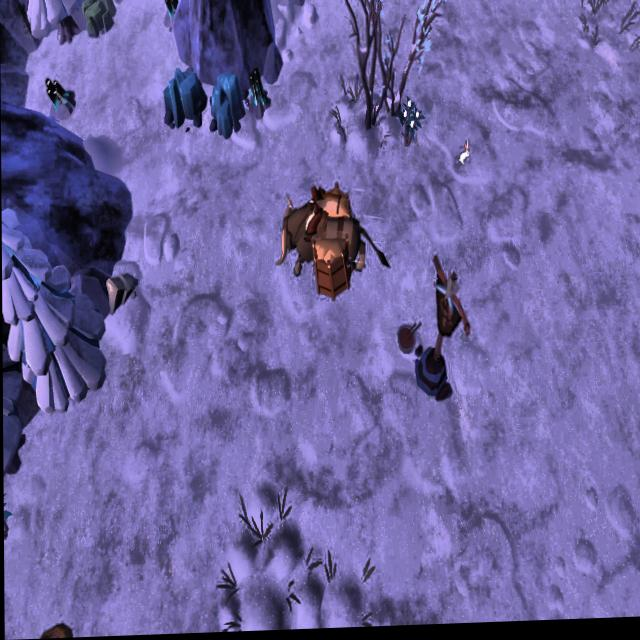fiber_t4: (398, 100, 423, 150)
ore_t4: (45, 68, 73, 112), (249, 63, 267, 116), (159, 0, 186, 23)
rock_t3: (79, 0, 119, 44)
rock_t4: (160, 65, 209, 134), (209, 69, 243, 142)
